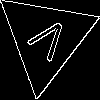V: (20, 14, 72, 70)
